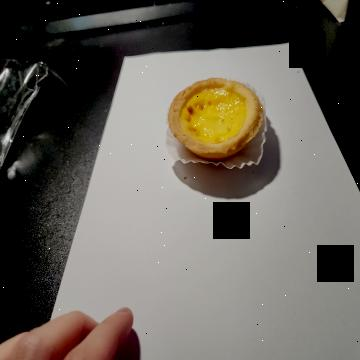EggTart: (168, 77, 263, 159)
